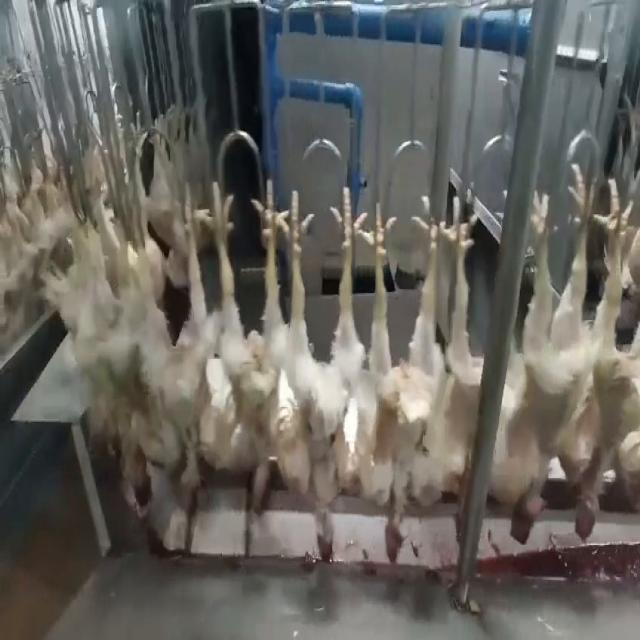chicken: (502, 162, 604, 548), (282, 178, 368, 572), (358, 189, 439, 572), (574, 162, 639, 552), (210, 178, 282, 513), (436, 189, 502, 545), (143, 185, 208, 502), (96, 198, 146, 516)
